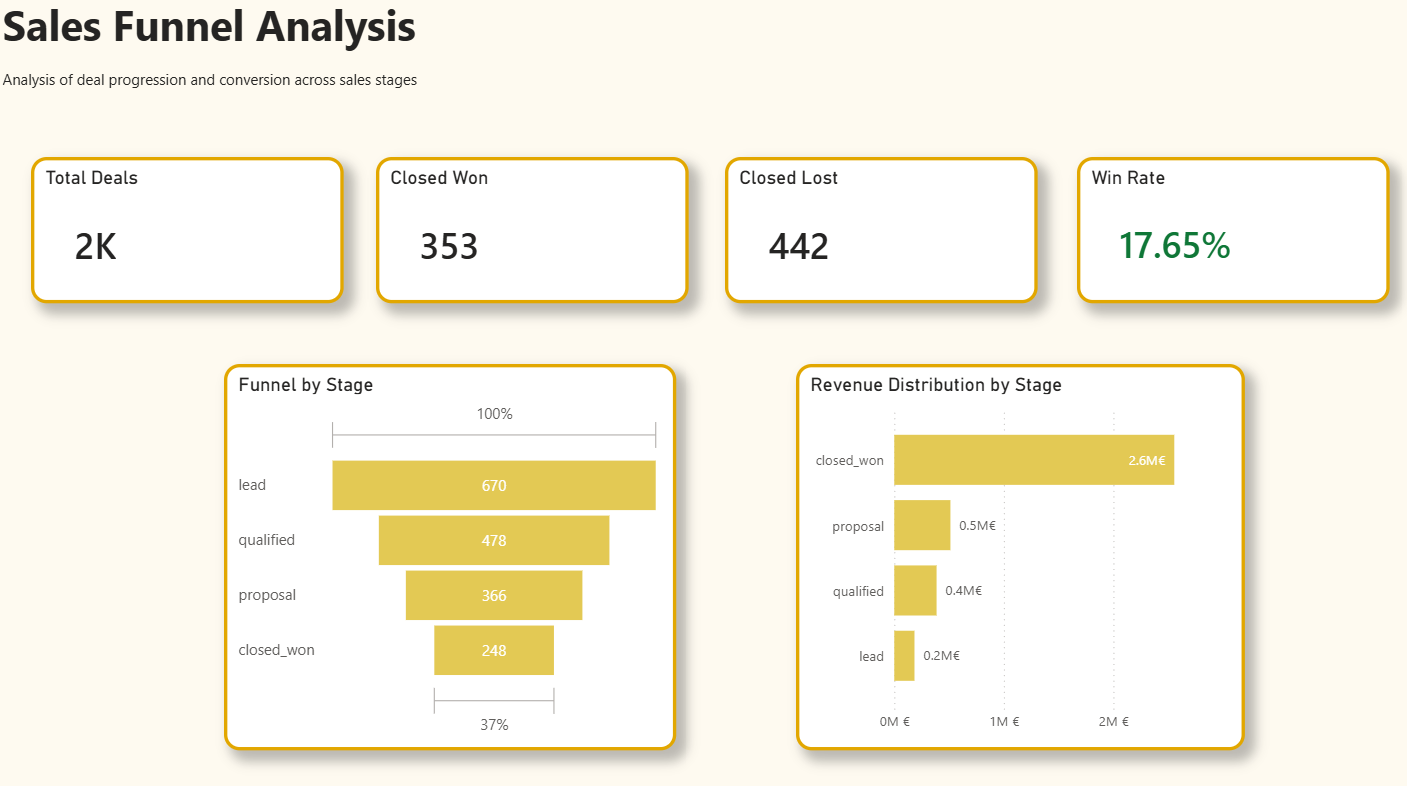

Layout of this report page (visuals, bound fields, positions):
{"tool":"powerbi","page":{"name":"Sales Funnel","canvas":[1280,720],"ordinal":2},"visuals":[{"type":"cardVisual","title":"Total Deals","fields":{"Data":["CountNonNull(sales_data.lead_id)"]},"box":[30.2,148.8,280.1,131.3],"z":0},{"type":"cardVisual","title":"Closed Won","fields":{"Data":["CountNonNull(sales_data.final_stage)"]},"box":[339.5,148.8,280.1,131.3],"z":1000},{"type":"cardVisual","title":"Win Rate","fields":{"Data":["sales_data.Win Rate"]},"box":[966.8,148.8,280.1,131.3],"z":2000},{"type":"cardVisual","title":"Closed Lost","fields":{"Data":["CountNonNull(sales_data.final_stage)"]},"box":[651.7,148.8,280.1,131.3],"z":3000},{"type":"funnel","title":"Funnel by Stage","fields":{"Category":["sales_data.stage"],"Y":["CountNonNull(sales_data.lead_id)"]},"box":[203.3,333.6,404.6,346.3],"z":4000},{"type":"clusteredBarChart","title":"Revenue Distribution by Stage","fields":{"Category":["sales_data.stage"],"Y":["Sum(sales_data.deal_value)"]},"box":[715.9,333.6,401.7,346.3],"z":5000},{"type":"textbox","box":[0,0,1255.7,65.2],"z":6000},{"type":"textbox","box":[0,65.2,744.1,30.2],"z":7000}]}

Visuals, with their boxes in screenshot pixels (x1, y1, x2, y2), scaled from the page's 1280x720 canvas onto the 1407x786 screenshot:
"Total Deals" cardVisual: 33/162/341/306
"Closed Won" cardVisual: 373/162/681/306
"Win Rate" cardVisual: 1063/162/1371/306
"Closed Lost" cardVisual: 716/162/1024/306
"Funnel by Stage" funnel: 223/364/668/742
"Revenue Distribution by Stage" clusteredBarChart: 787/364/1228/742
textbox: 0/0/1380/71
textbox: 0/71/818/104
